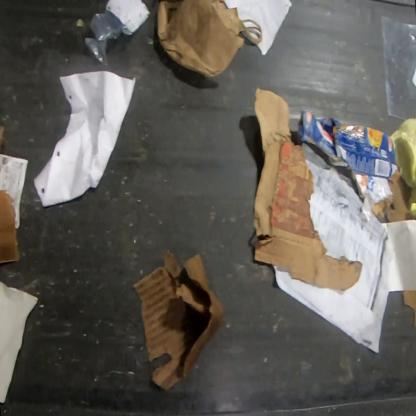cardboard: (252, 84, 362, 292), (131, 248, 226, 393), (297, 108, 402, 184), (350, 171, 394, 223), (0, 189, 21, 264), (401, 290, 416, 328)
soft_plastic: (381, 15, 415, 121), (83, 9, 129, 67)
